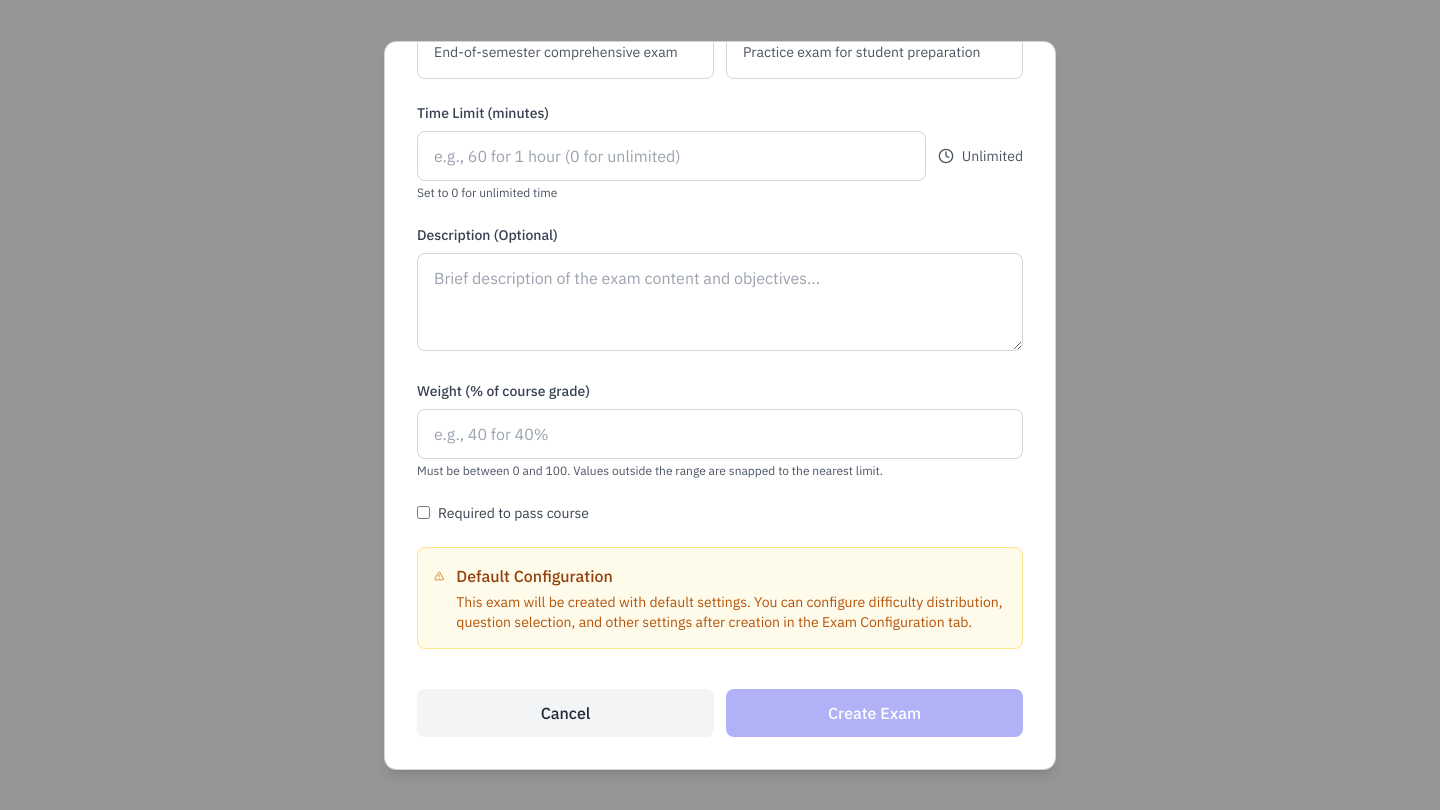
it: CreateExamModal › Weight Input Behavior › prevents leading zeros
(page scrolled)
Step 1. Type "010" into the number field with placeholder "e.g., 40 for 40%" → (720, 434), box [417,408,1023,458]
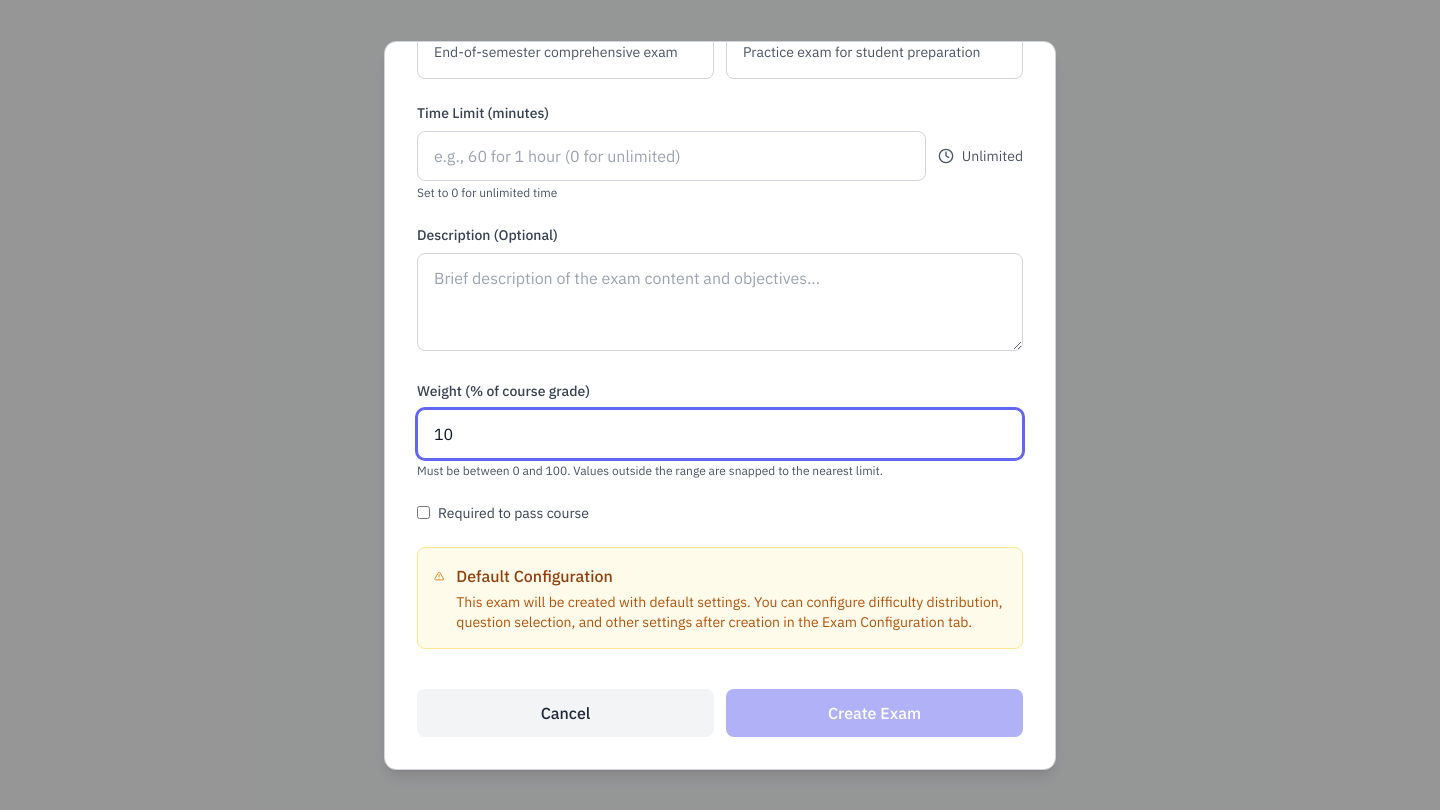
Expected: the number field with placeholder "e.g., 40 for 40%" holds "10", [417,408,1023,458]
